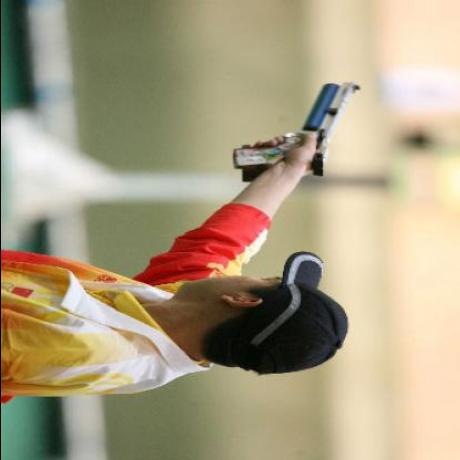1: (0, 136, 345, 402)
weapon: (223, 72, 368, 190)
